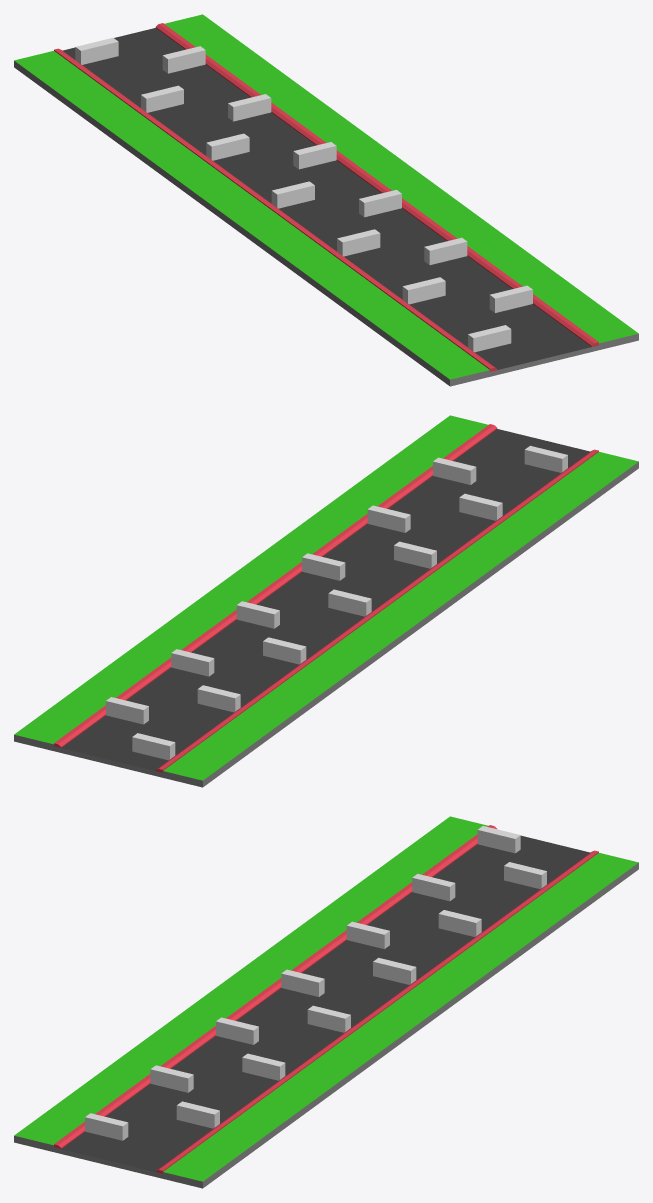
Rendered from obstacle.fbx.
3 renders of one model, top to bottom at view 1: azimuth 30°, elevation 25°; view 2: azimuth 150°, elevation 25°; view 3: azimuth 330°, elevation 25°, orthographic.
Parts seen in each view (by area): view 1: straight_long.001, Cube.004, Cube.001, Cube.002, Cube.006, Cube.005, Cube.009, Cube.007, Cube.008, Cube.011, Cube.013, Cube.010 (+2 smaller); view 2: straight_long.001, Cube.002, Cube.005, Cube.003, Cube.004, Cube.001, Cube.007, Cube.008, Cube.010, Cube.013, Cube.011, Cube.012 (+2 smaller); view 3: straight_long.001, Cube.012, Cube.008, Cube.010, Cube.011, Cube.007, Cube.013, Cube.001, Cube.002, Cube.003, Cube.004, Cube.005 (+2 smaller).
Part boxes in pixels (x1,y1,x2,y2): straight_long.001: (14, 14, 638, 386); Cube.004: (293, 142, 336, 169); Cube.001: (489, 285, 532, 312); Cube.002: (424, 237, 467, 264); Cube.006: (162, 46, 205, 73); Cube.005: (228, 94, 271, 121); Cube.009: (337, 229, 380, 256); Cube.007: (468, 325, 511, 352); Cube.008: (402, 277, 445, 304); Cube.011: (206, 133, 249, 160); Cube.013: (75, 38, 118, 64); Cube.010: (271, 181, 314, 208); straight_long.001: (14, 415, 638, 787); Cube.002: (367, 505, 410, 532); Cube.005: (171, 649, 214, 676); Cube.003: (302, 553, 345, 580); Cube.004: (236, 601, 279, 628); Cube.001: (433, 457, 476, 484); Cube.007: (524, 445, 567, 472); Cube.008: (459, 493, 502, 520); Cube.010: (328, 589, 371, 616); Cube.013: (132, 733, 175, 760); Cube.011: (263, 637, 306, 664); Cube.012: (197, 685, 240, 712); straight_long.001: (14, 816, 638, 1188); Cube.012: (412, 873, 455, 901); Cube.008: (150, 1065, 193, 1092); Cube.010: (281, 969, 324, 996); Cube.011: (346, 921, 389, 949); Cube.007: (85, 1113, 128, 1140); Cube.013: (477, 826, 520, 853); Cube.001: (176, 1101, 219, 1128); Cube.002: (242, 1053, 285, 1080); Cube.003: (307, 1005, 350, 1032); Cube.004: (373, 957, 416, 984); Cube.005: (438, 910, 481, 936).
Size of the model in its own units: 2000 by 196 by 8000.
